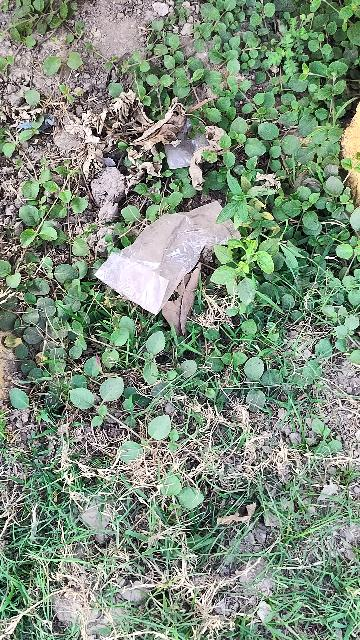polythene: (92, 194, 248, 318)
